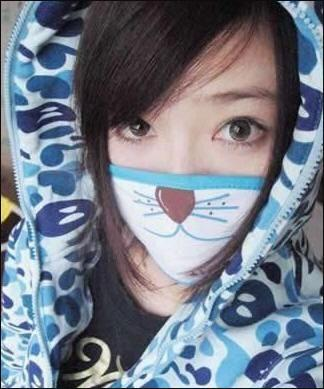WRONG: (95, 79, 280, 277)
